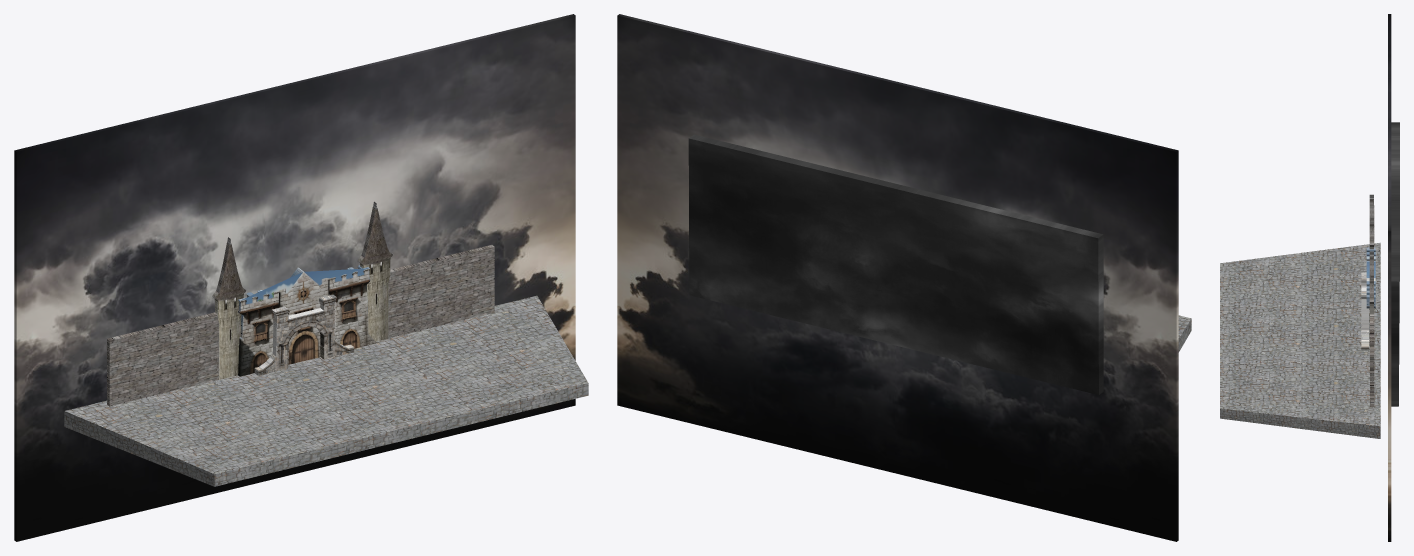
The model's file is castle map1.1 (1).fbx.
3 renders of one model, left to right at view 1: azimuth 30°, elevation 25°; view 2: azimuth 150°, elevation 25°; view 3: azimuth 270°, elevation 25°, orthographic. The views are drawn at different scales.
Parts seen in each view (by area): view 1: front; view 2: front; view 3: front.
Part boxes in pixels (x1,y1,x2,y2): front: (14,14,588,541); front: (617,14,1191,541); front: (1220,14,1399,541).
Bounding box in the file's own units: 2472 × 1648 × 864.
7 materials, 7 textured.
